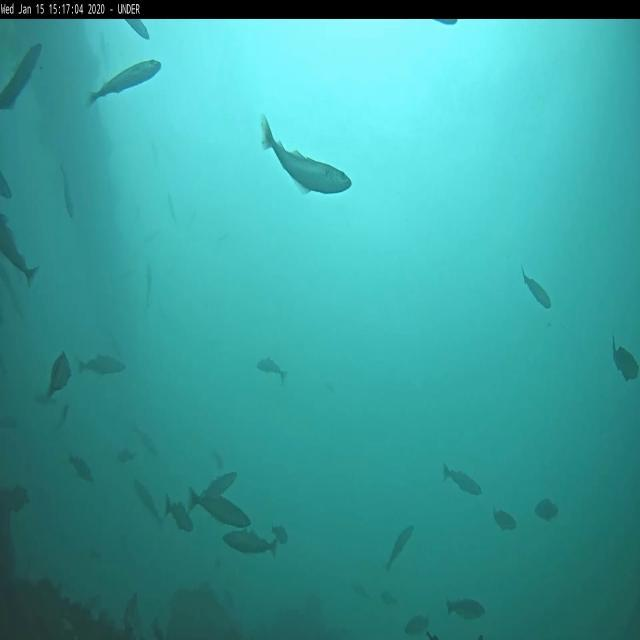fish: (261, 112, 353, 193), (90, 58, 161, 100), (0, 43, 42, 111), (1, 214, 40, 286), (188, 485, 252, 527), (38, 349, 72, 405), (224, 528, 276, 558), (442, 459, 482, 496), (198, 471, 238, 506), (522, 266, 552, 310), (612, 336, 639, 382), (388, 524, 413, 570), (77, 355, 126, 377), (136, 480, 162, 520), (256, 356, 287, 384), (58, 165, 74, 219), (166, 498, 190, 531), (446, 600, 484, 618), (534, 498, 560, 521), (493, 506, 516, 531), (126, 20, 152, 42), (69, 460, 92, 482), (406, 616, 431, 636), (1, 172, 14, 198), (380, 590, 401, 606), (270, 523, 286, 543), (146, 266, 152, 308), (117, 452, 137, 464)
